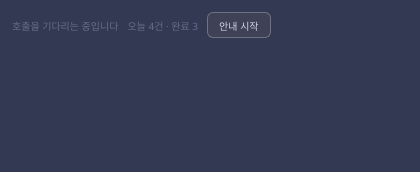
it: 근무 칩 — 시나리오 근무 › [관제 개입 ▾] 대신 [안내 시작] — 목적지 없이 근무의 시나리오를 연다
The image size is (420, 172).
Click the button "안내 시작". click: {"x": 239, "y": 25}
box: [207,12,271,38]
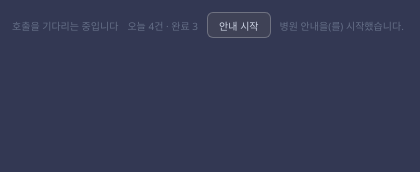
Check: the text "병원 안내을(를) 시작했습니다." is shown, box [280,18,404,32]
